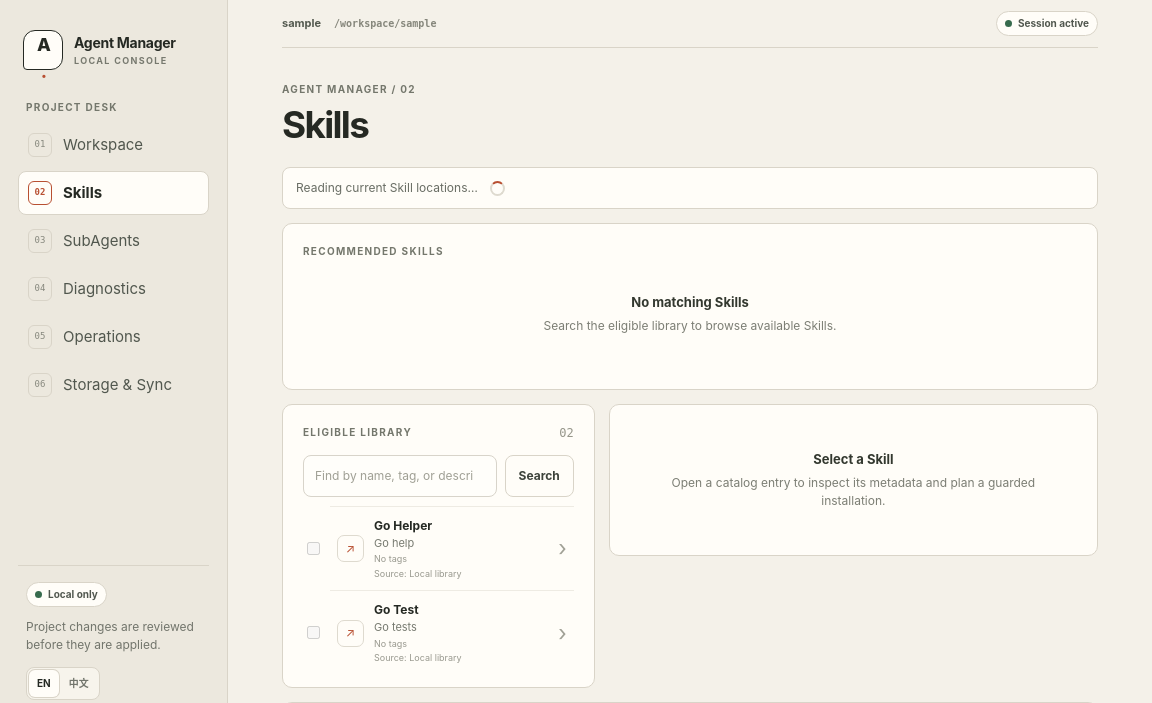
it: console entry and guarded installation › keeps unknown installation API errors unchanged in Chinese
Click the checkbox named "Select go-helper" at x=314, y=548, box [307,542,320,555]
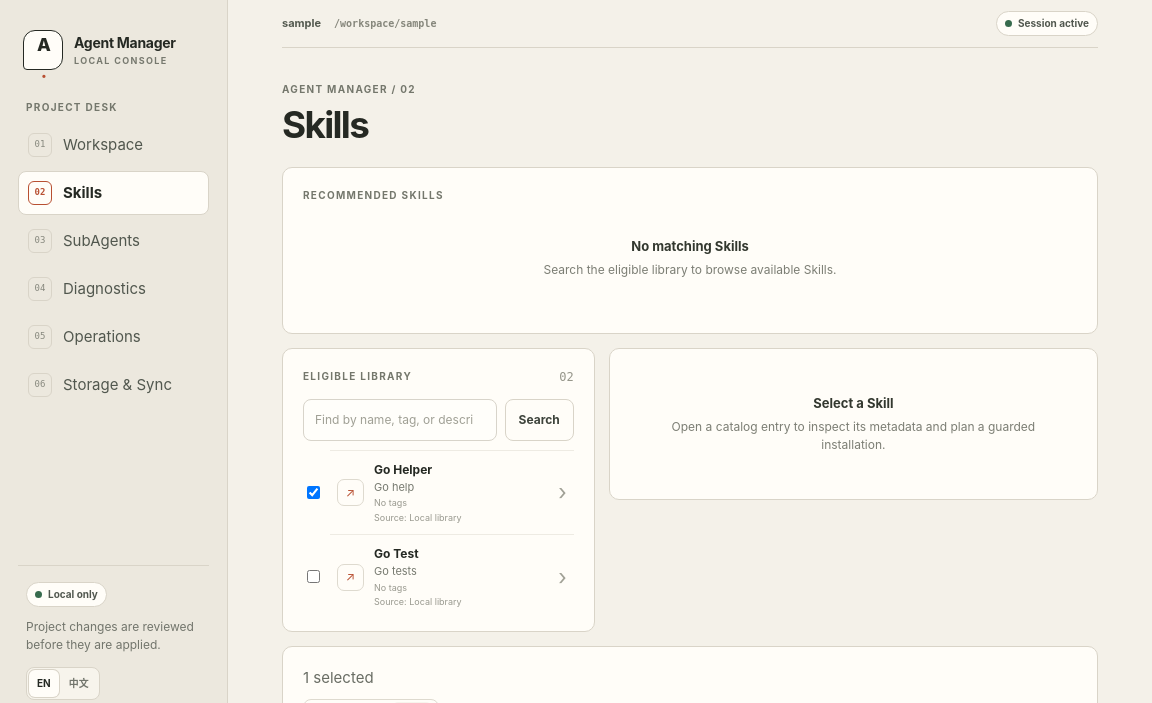
Click the checkbox named "Select go-test" at x=314, y=577, box [307,570,320,583]
(page scrolled)
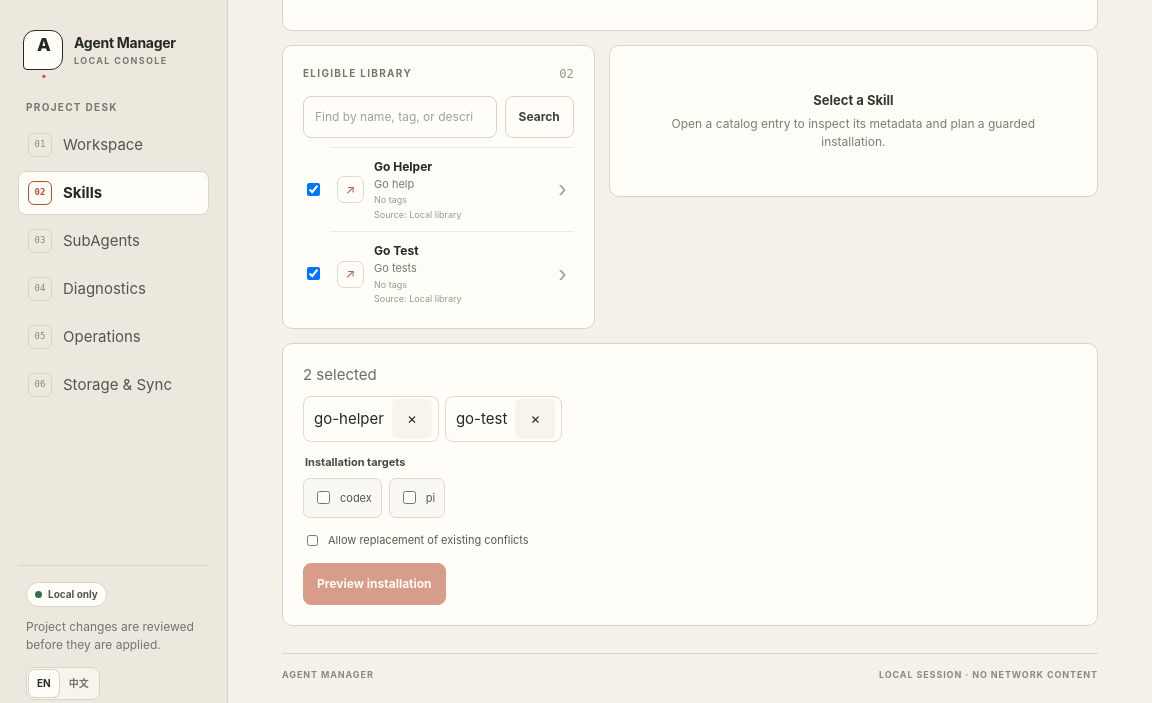
Click the checkbox labelled "pi" at x=409, y=498, box [403,491,416,504]
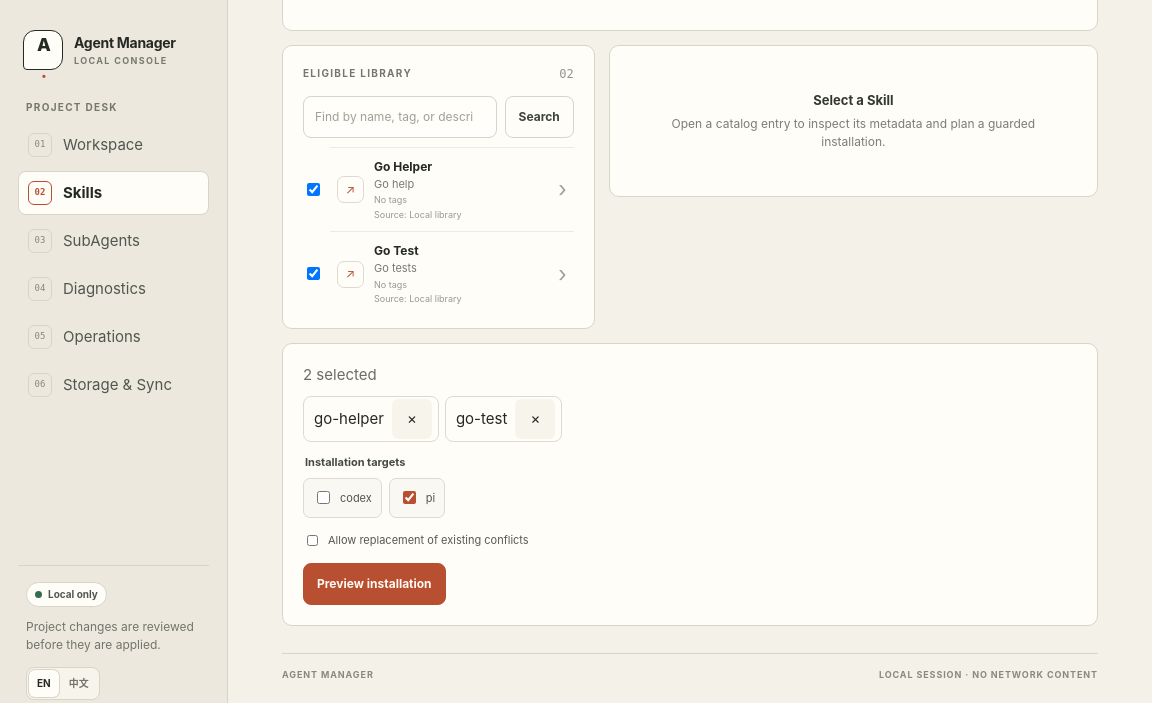
Click the button with aria-label "Simplified Chinese" at x=79, y=684, box [61,670,97,697]
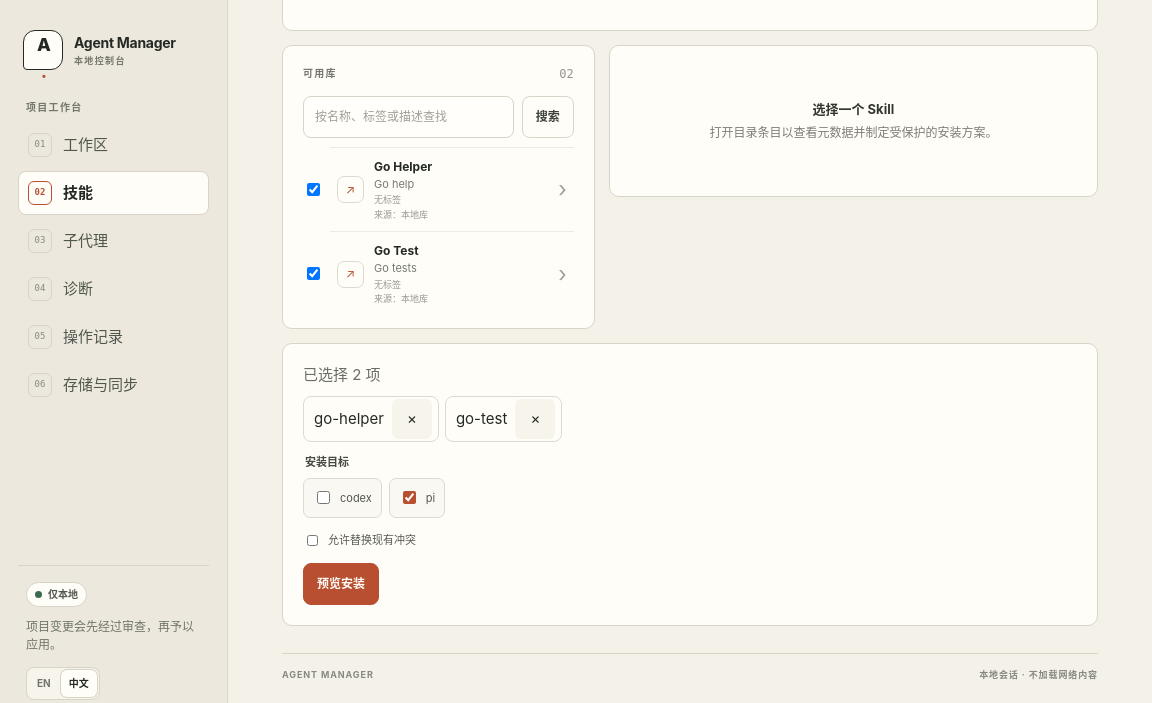
Click the button "预览安装" at x=341, y=584, box [303,563,379,605]
(page scrolled)
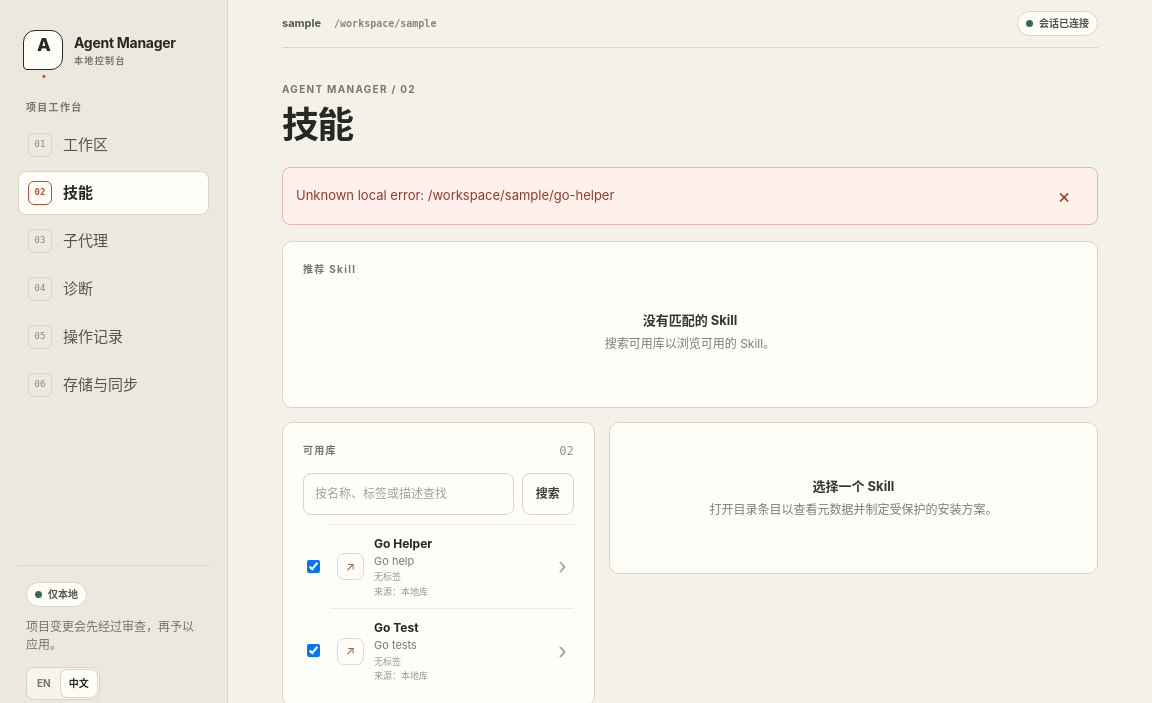
Check: the message shows "Unknown local error: /workspace/sample/go-helper", box [296,187,614,203]
